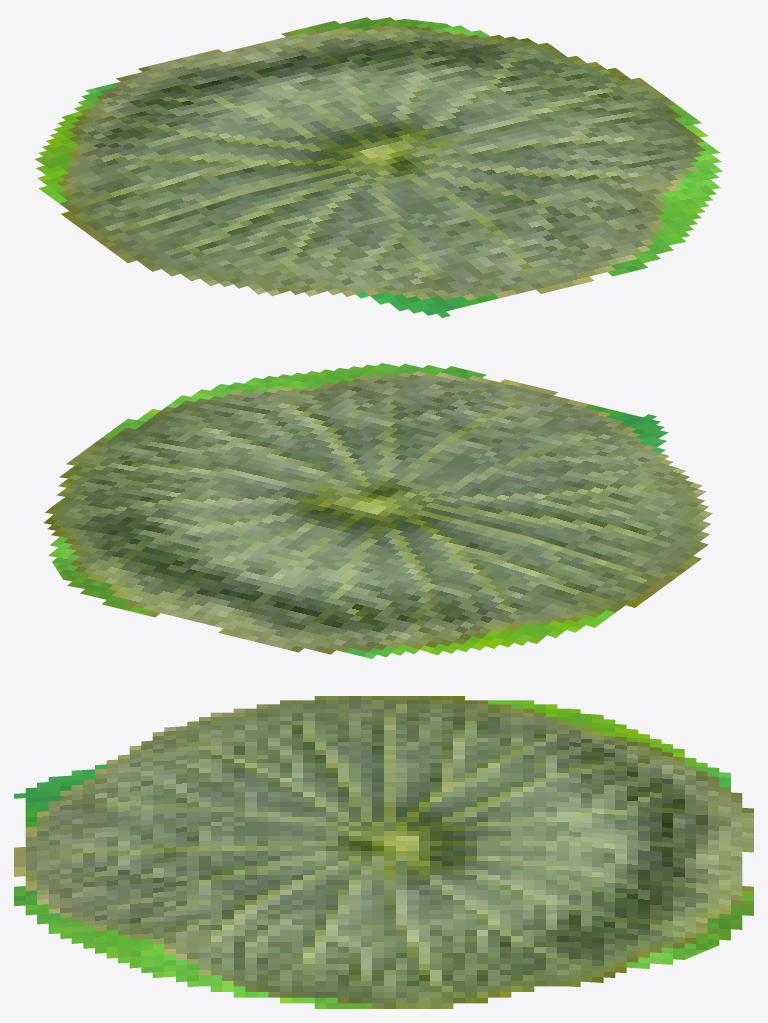
Rendered from Lify pad.fbx.
The picture shows the model from 3 angles, top to bottom: view 1: azimuth 30°, elevation 25°; view 2: azimuth 150°, elevation 25°; view 3: azimuth 270°, elevation 25°; orthographic projection. The views are drawn at different scales.
Visible parts, largest first — view 1: Lily Pad 1, Lily Pad 2; view 2: Lily Pad 1, Lily Pad 2; view 3: Lily Pad 1, Lily Pad 2.
Boxes of the visible parts, <box> form: Lily Pad 1: <box>57,25,705,300</box>; Lily Pad 2: <box>34,17,722,317</box>; Lily Pad 1: <box>43,371,712,654</box>; Lily Pad 2: <box>48,363,668,658</box>; Lily Pad 1: <box>14,696,753,1008</box>; Lily Pad 2: <box>14,700,753,1008</box>.
Bounding box in the file's own units: 0.6677 × 0.0113 × 0.6677.
2 materials, 2 textured.
